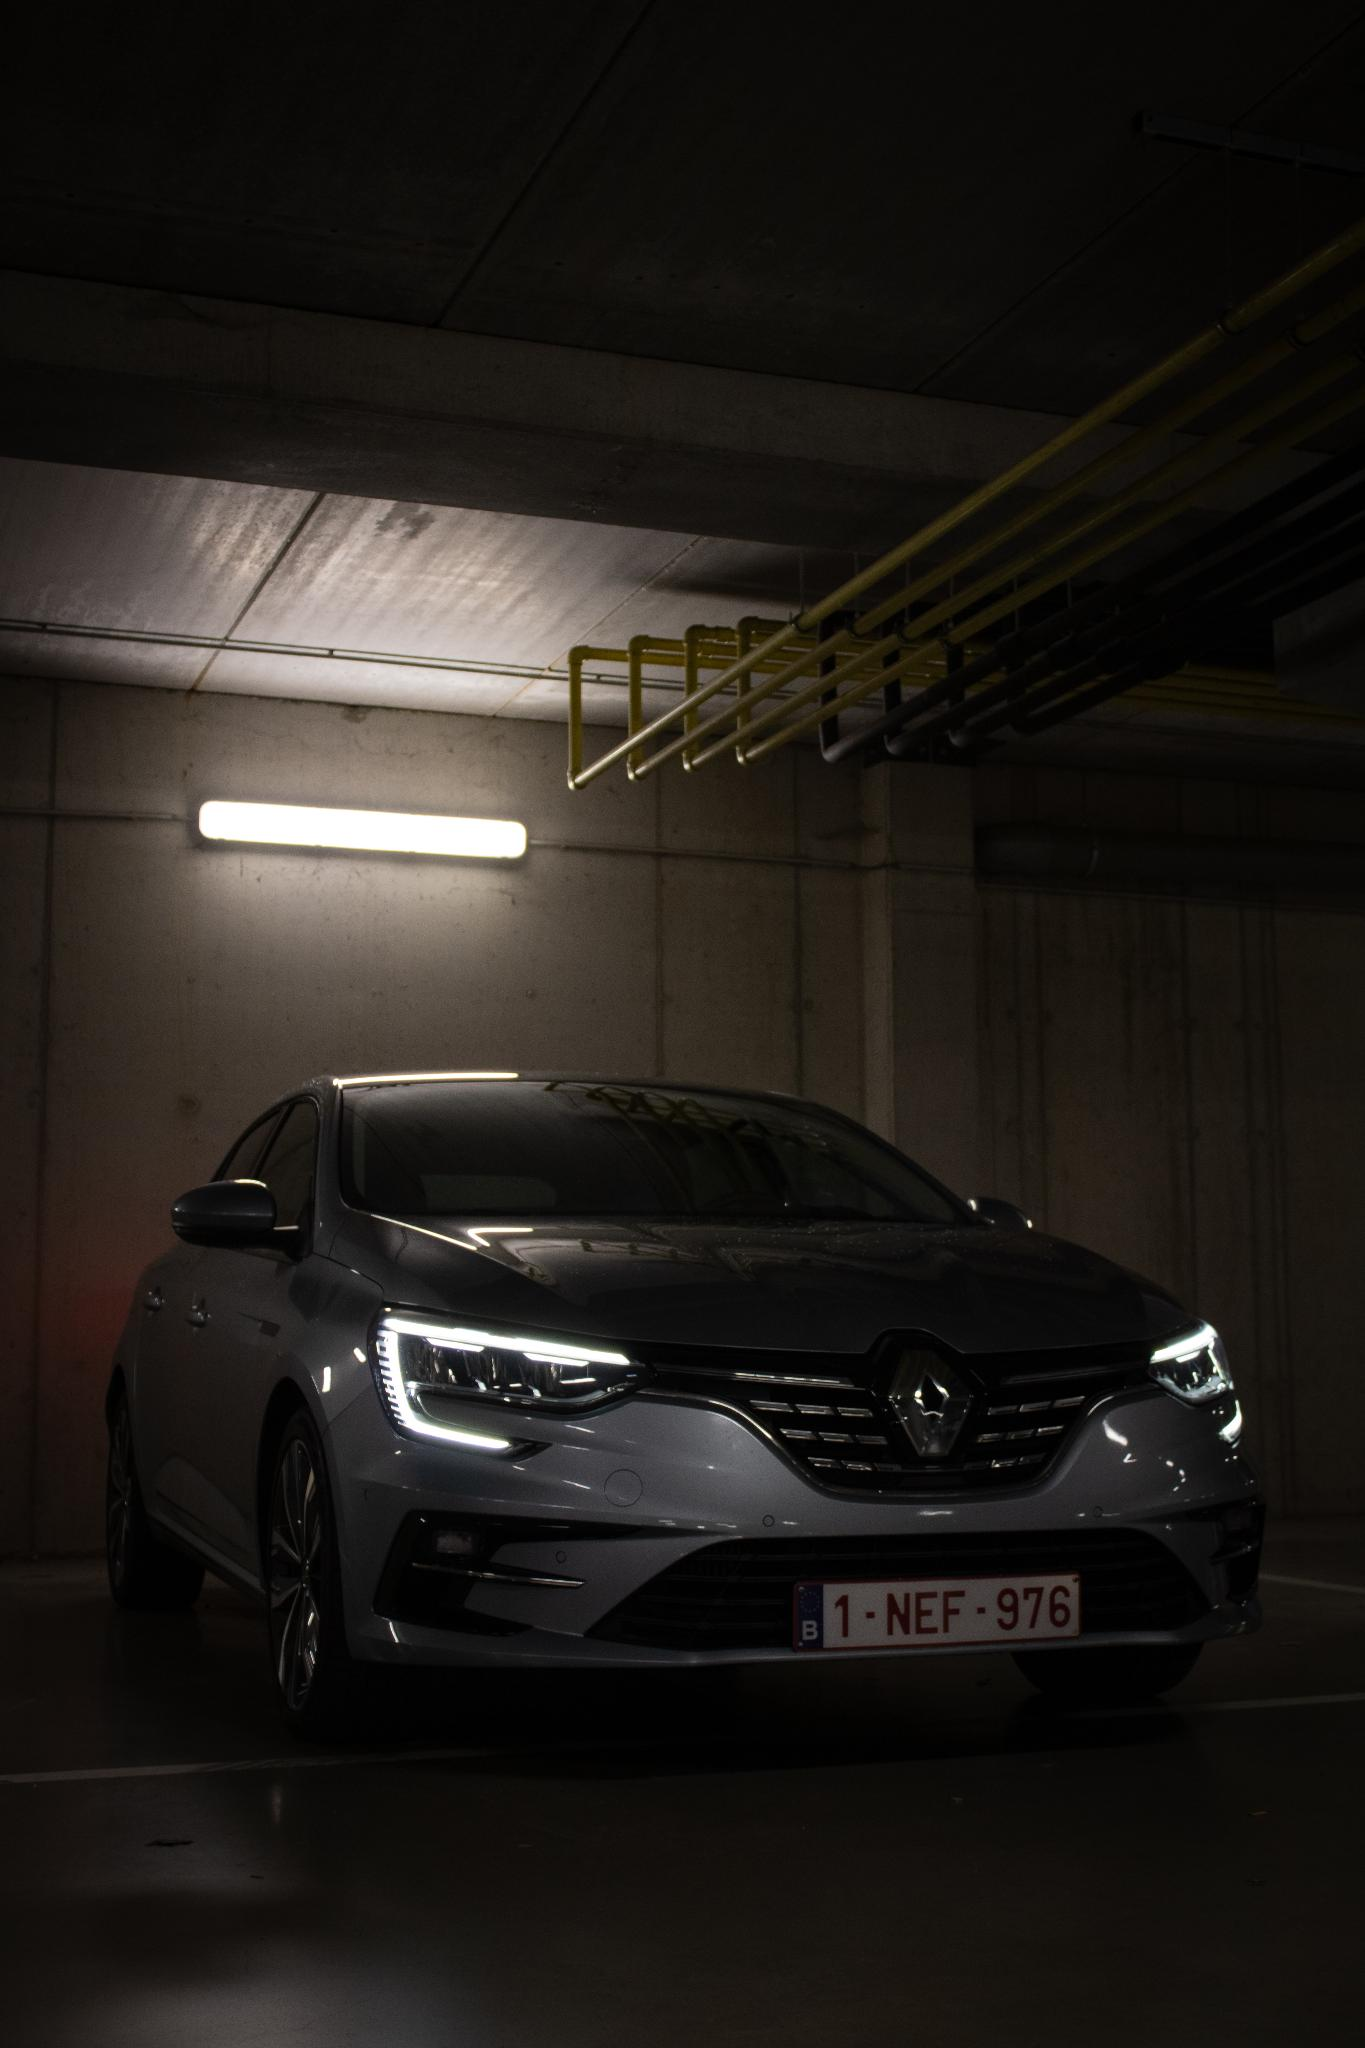Renault: (868, 1335, 983, 1479)
